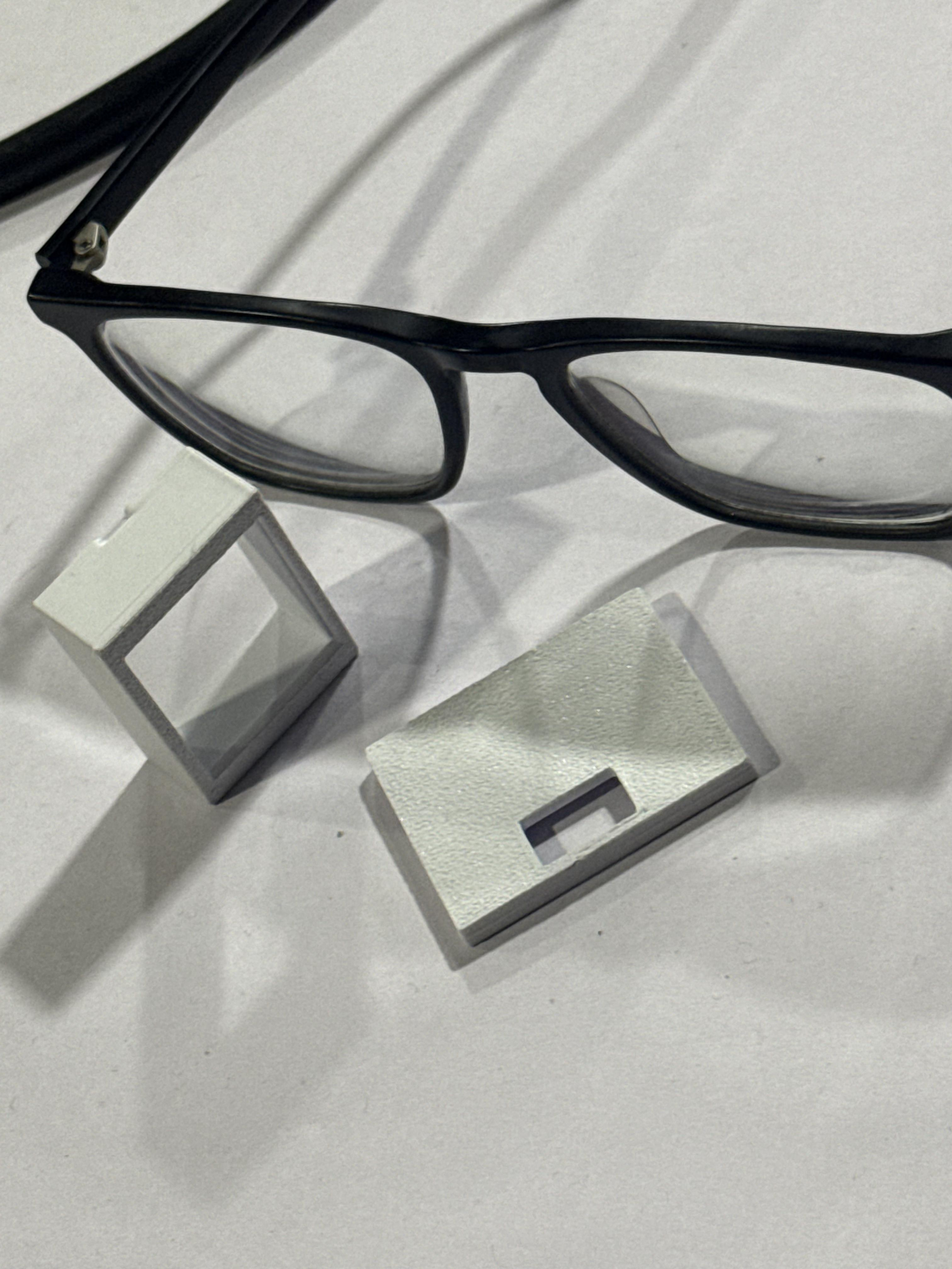enclosure: (364, 587, 780, 972), (32, 446, 360, 804)
